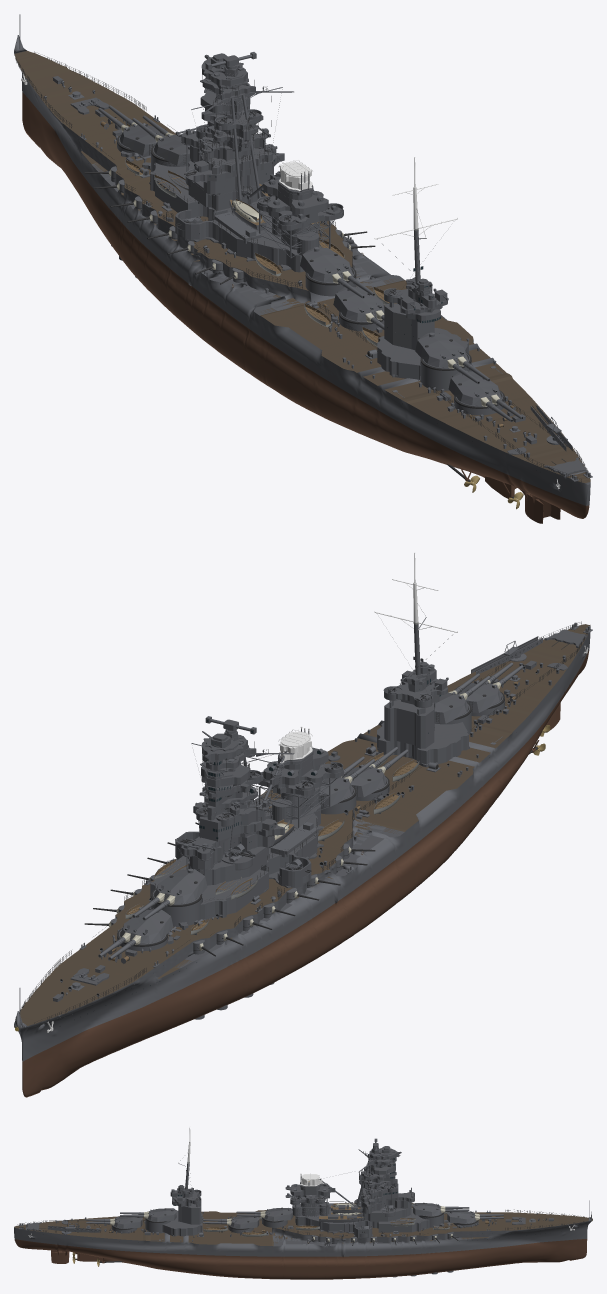
Rendered from hyuga.glb.
3 views of the same model, one above another, from view 1: azimuth 30°, elevation 25°; view 2: azimuth 150°, elevation 25°; view 3: azimuth 270°, elevation 25° (orthographic). The views are drawn at different scales.
Visible parts, largest first — view 1: Blueprint lofted hull, pagoda-001.mesh, after-tower-003.mesh, after-tower-004.mesh, funnel.mesh, deck-rails.mesh, main-5.yaw.mesh, main-3.yaw.mesh, main-4.yaw.mesh, main-6.yaw.mesh, pagoda-015.mesh, pagoda-008.mesh (+12 smaller); view 2: Blueprint lofted hull, pagoda-001.mesh, after-tower-003.mesh, after-tower-004.mesh, funnel.mesh, main-2.yaw.mesh, main-1.yaw.mesh, deck-rails.mesh, pagoda-008.mesh, pagoda-015.mesh, pagoda-025.mesh, funnel-tower.mesh (+10 smaller); view 3: Blueprint lofted hull, pagoda-001.mesh, funnel.mesh, after-tower-003.mesh, pagoda-008.mesh, after-tower-004.mesh, main-5.yaw.mesh, deck-rails.mesh, main-2.yaw.mesh, main-3.yaw.mesh, main-4.yaw.mesh, main-1.yaw.mesh (+9 smaller).
Part boxes in pixels (box(x1,y1,x2,y2)): Blueprint lofted hull: box(14, 35, 590, 518); pagoda-001.mesh: box(150, 162, 317, 272); after-tower-003.mesh: box(377, 328, 468, 379); after-tower-004.mesh: box(384, 303, 434, 350); funnel.mesh: box(272, 159, 319, 255); deck-rails.mesh: box(16, 51, 590, 481); main-5.yaw.mesh: box(415, 332, 469, 368); main-3.yaw.mesh: box(300, 247, 354, 283); main-4.yaw.mesh: box(333, 287, 384, 322); main-6.yaw.mesh: box(448, 370, 503, 406); pagoda-015.mesh: box(190, 145, 273, 194); pagoda-008.mesh: box(188, 160, 257, 210); Blueprint lofted hull: box(14, 624, 590, 1097); pagoda-001.mesh: box(150, 807, 320, 919); after-tower-003.mesh: box(377, 722, 468, 764); after-tower-004.mesh: box(384, 699, 434, 748); funnel.mesh: box(272, 726, 319, 823); main-2.yaw.mesh: box(153, 868, 207, 904); main-1.yaw.mesh: box(118, 908, 173, 944); deck-rails.mesh: box(15, 621, 590, 1026); pagoda-008.mesh: box(188, 848, 268, 885); pagoda-015.mesh: box(189, 834, 273, 869); pagoda-025.mesh: box(199, 799, 265, 833); funnel-tower.mesh: box(251, 778, 336, 828); Blueprint lofted hull: box(14, 1210, 592, 1279); pagoda-001.mesh: box(295, 1199, 429, 1237); funnel.mesh: box(292, 1173, 329, 1216); after-tower-003.mesh: box(162, 1210, 202, 1236); pagoda-008.mesh: box(361, 1207, 410, 1221); after-tower-004.mesh: box(178, 1200, 201, 1224); main-5.yaw.mesh: box(147, 1208, 176, 1221); deck-rails.mesh: box(17, 1209, 584, 1238); main-2.yaw.mesh: box(413, 1202, 442, 1216); main-3.yaw.mesh: box(264, 1207, 293, 1221); main-4.yaw.mesh: box(230, 1216, 259, 1228); main-1.yaw.mesh: box(447, 1211, 476, 1223).
Bounding box in the file's own units: 37.52 × 55.81 × 215.
Materials: 15 (10 with a texture image).
